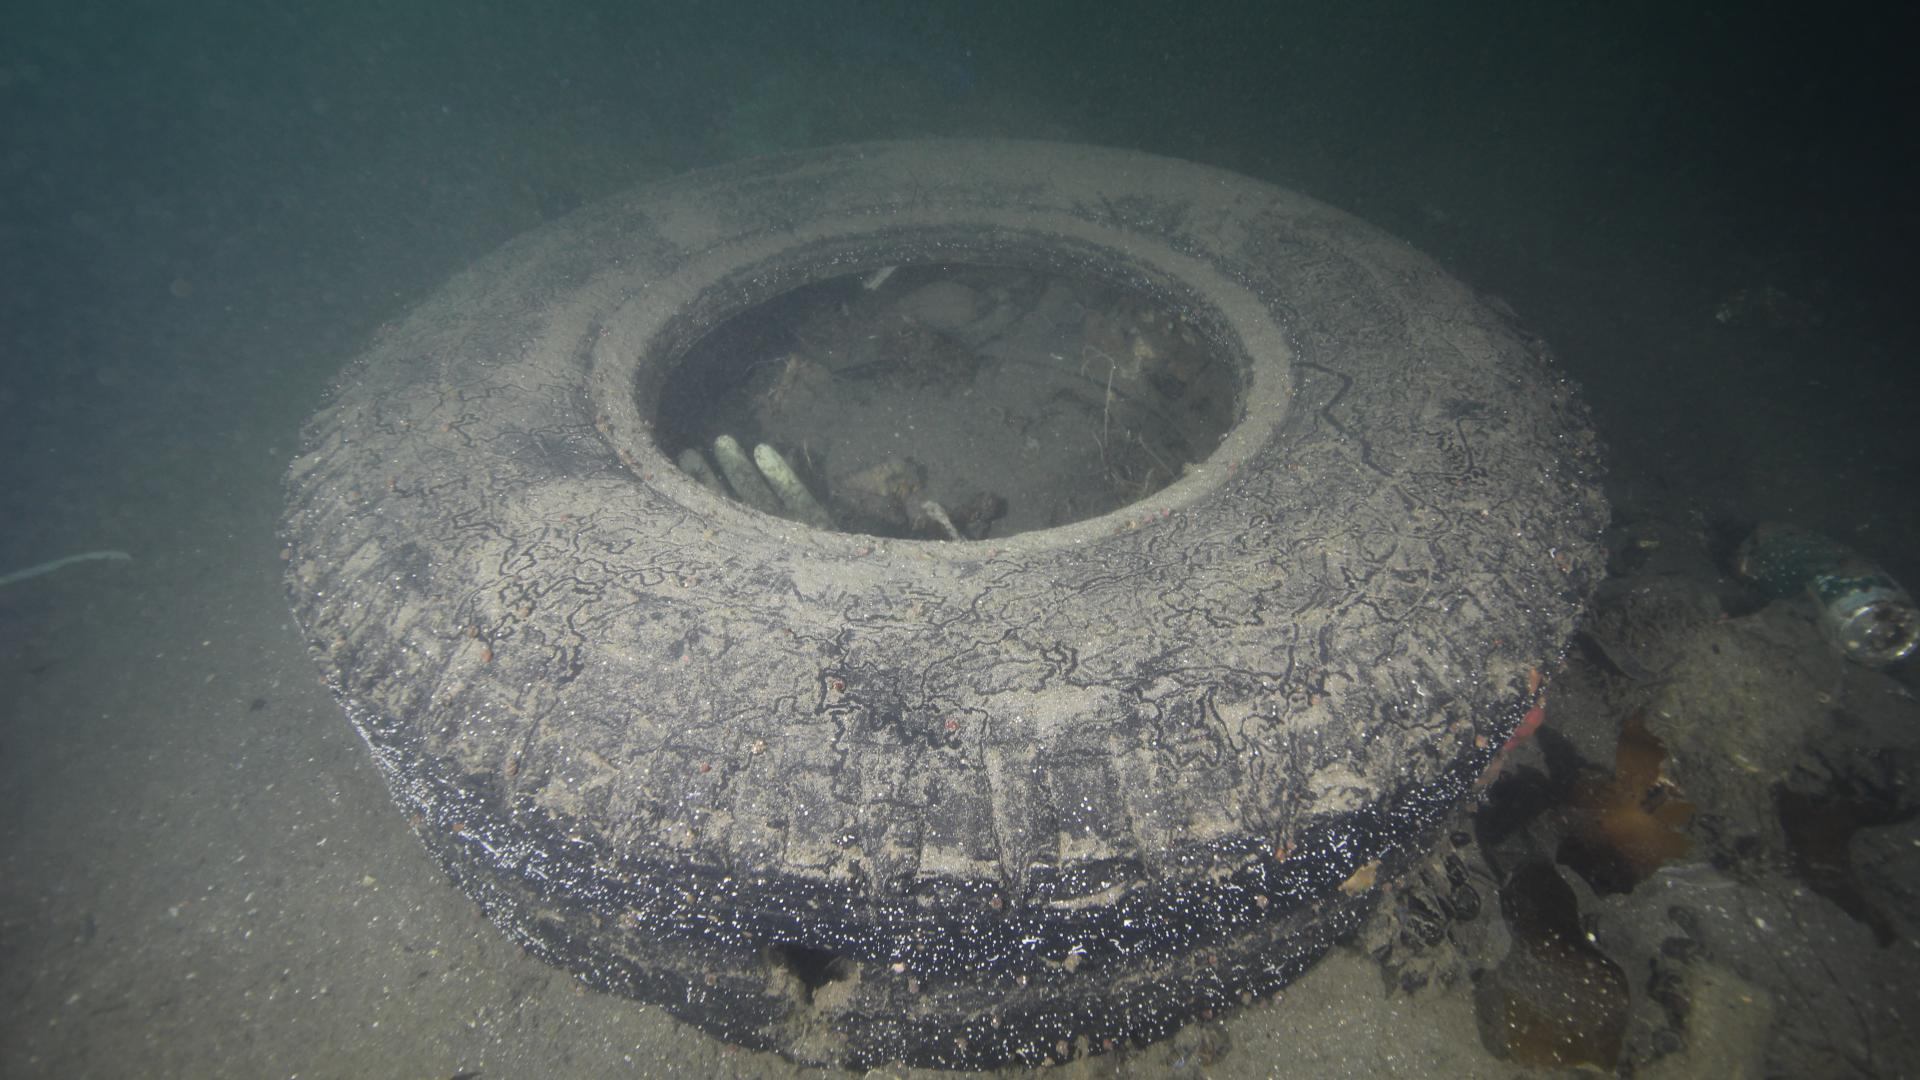tire: (280, 136, 1615, 1080)
